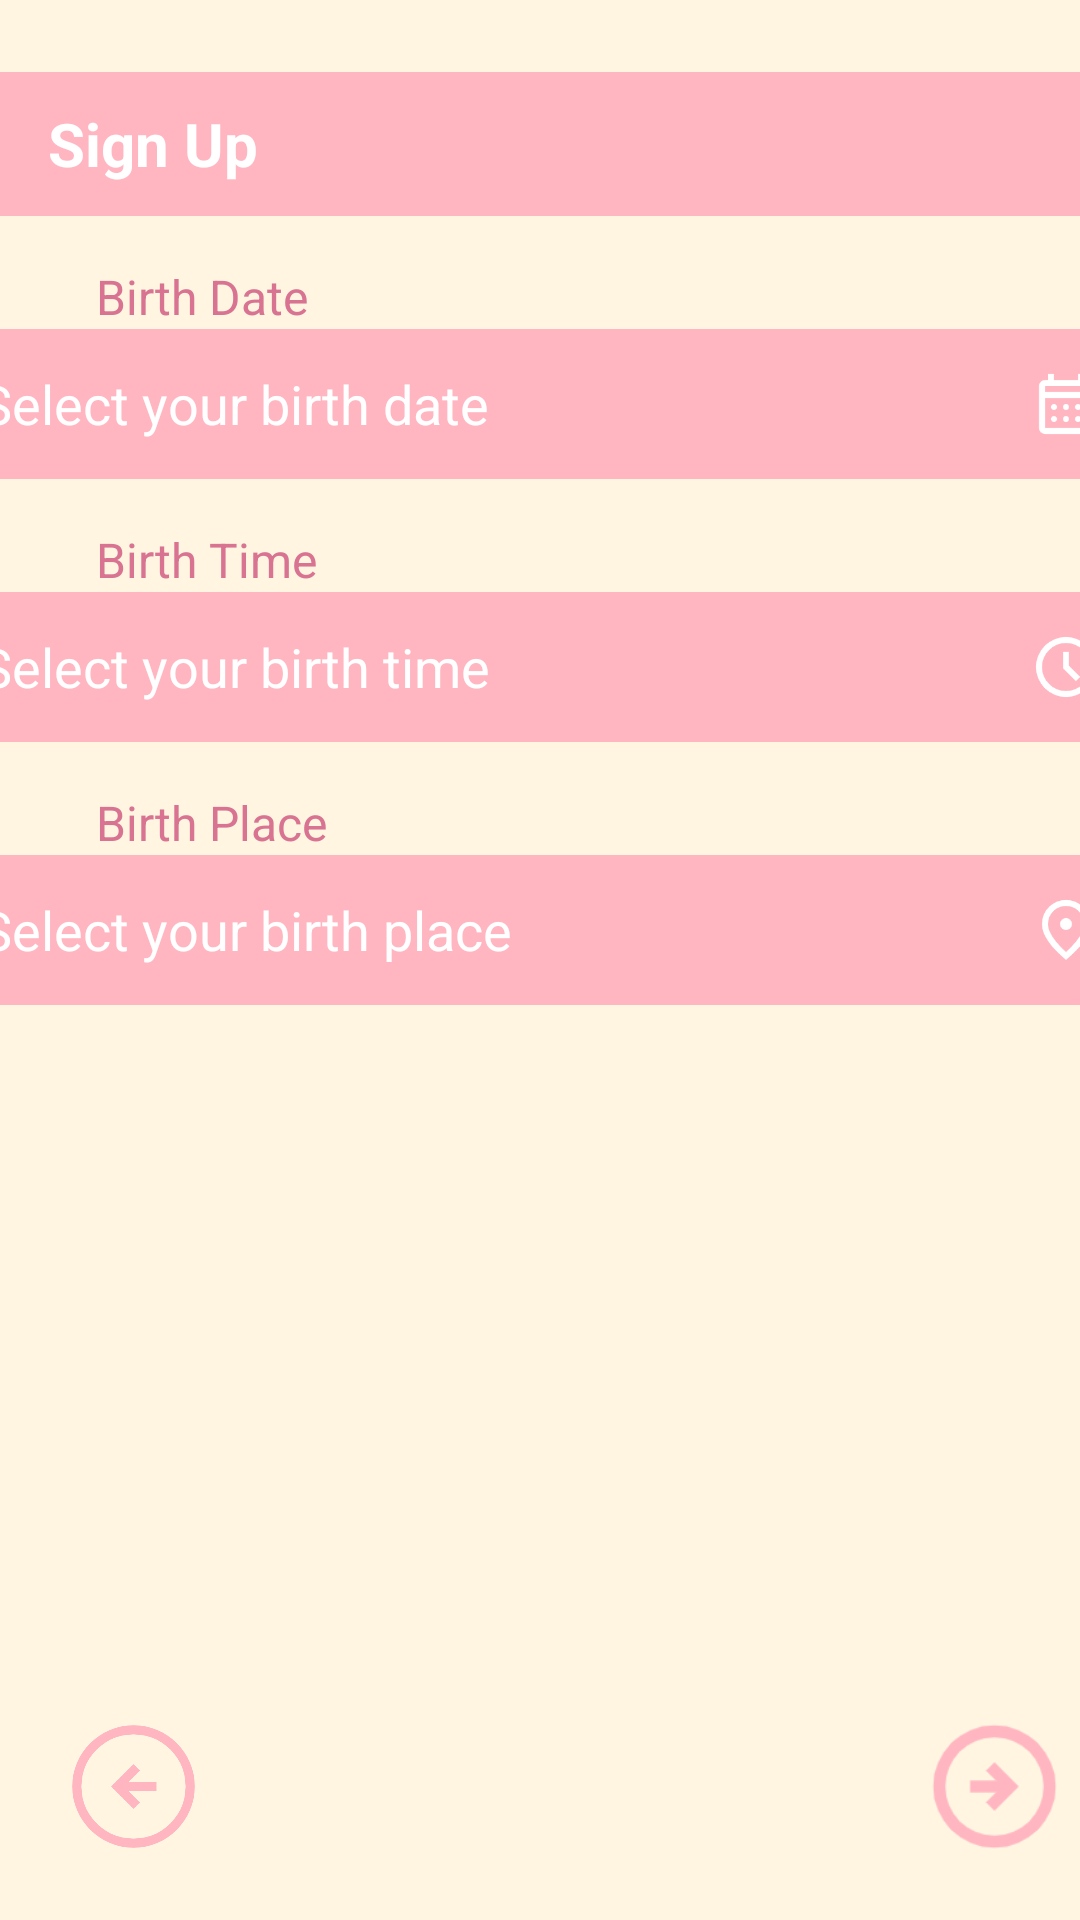

Named icons in this screenshot (1080 × 1920) and their bounding boxes, rect(x1, y1, x2, y2):
Back: rect(72, 1725, 195, 1848)
Next: rect(933, 1725, 1056, 1848)
